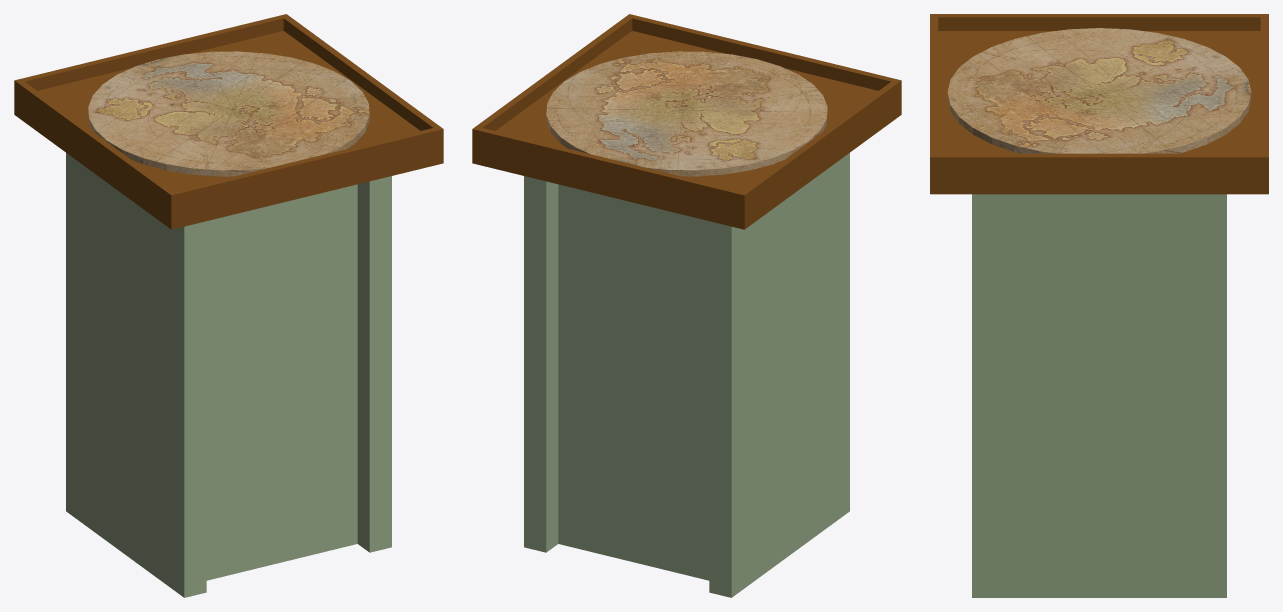
The model's file is tableWithMap.fbx.
The picture shows the model from 3 angles, left to right: view 1: azimuth 30°, elevation 25°; view 2: azimuth 150°, elevation 25°; view 3: azimuth 270°, elevation 25°; orthographic projection. The views are drawn at different scales.
Visible parts, largest first — view 1: Cube; view 2: Cube; view 3: Cube.
Part boxes in pixels (x1=…): Cube: x1=14, y1=14, x2=443, y2=597; Cube: x1=472, y1=14, x2=901, y2=597; Cube: x1=930, y1=14, x2=1268, y2=597.
Size of the model in its own units: 68.95 by 103 by 68.95.
